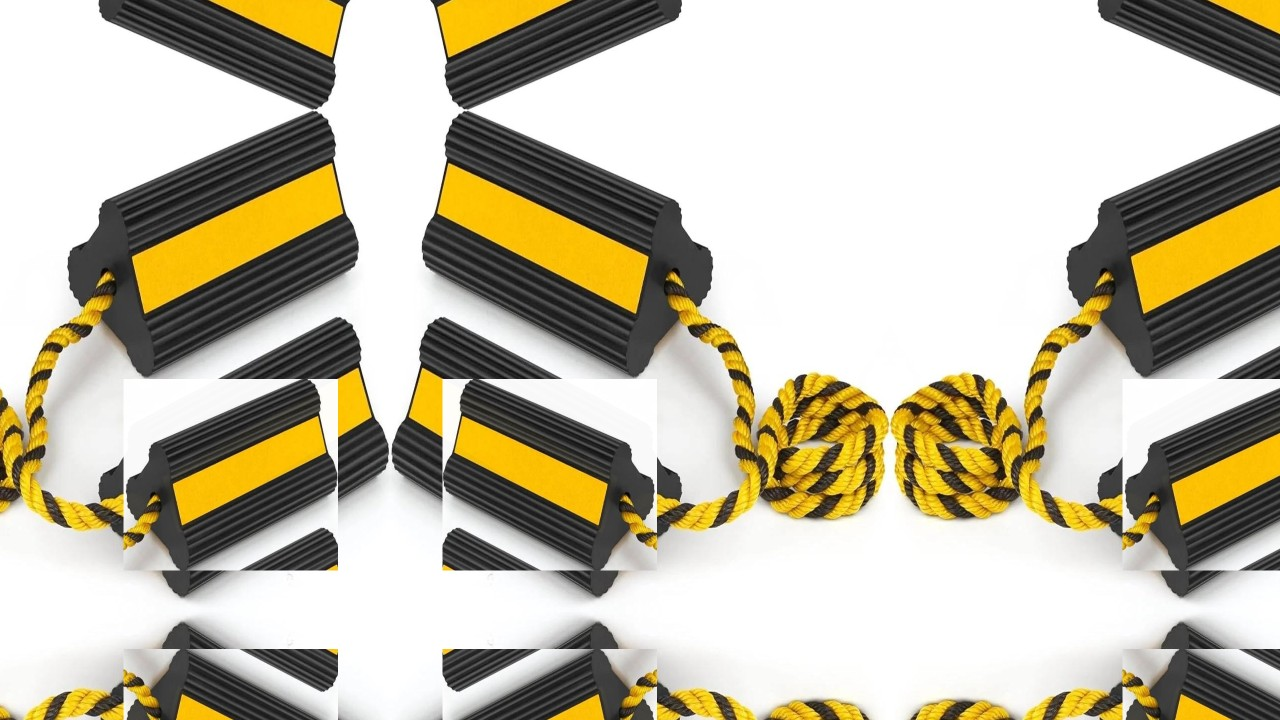chock: (97, 314, 390, 599), (390, 314, 683, 599), (64, 112, 359, 376), (421, 112, 716, 376), (1064, 112, 1280, 376), (1097, 314, 1280, 599), (123, 379, 338, 570), (442, 379, 657, 570), (64, 0, 359, 108), (421, 0, 716, 108), (1123, 379, 1280, 570), (97, 621, 390, 720), (390, 621, 683, 720), (1064, 0, 1280, 108), (1097, 621, 1280, 720), (123, 650, 338, 720), (442, 650, 657, 720), (1123, 650, 1280, 720)
